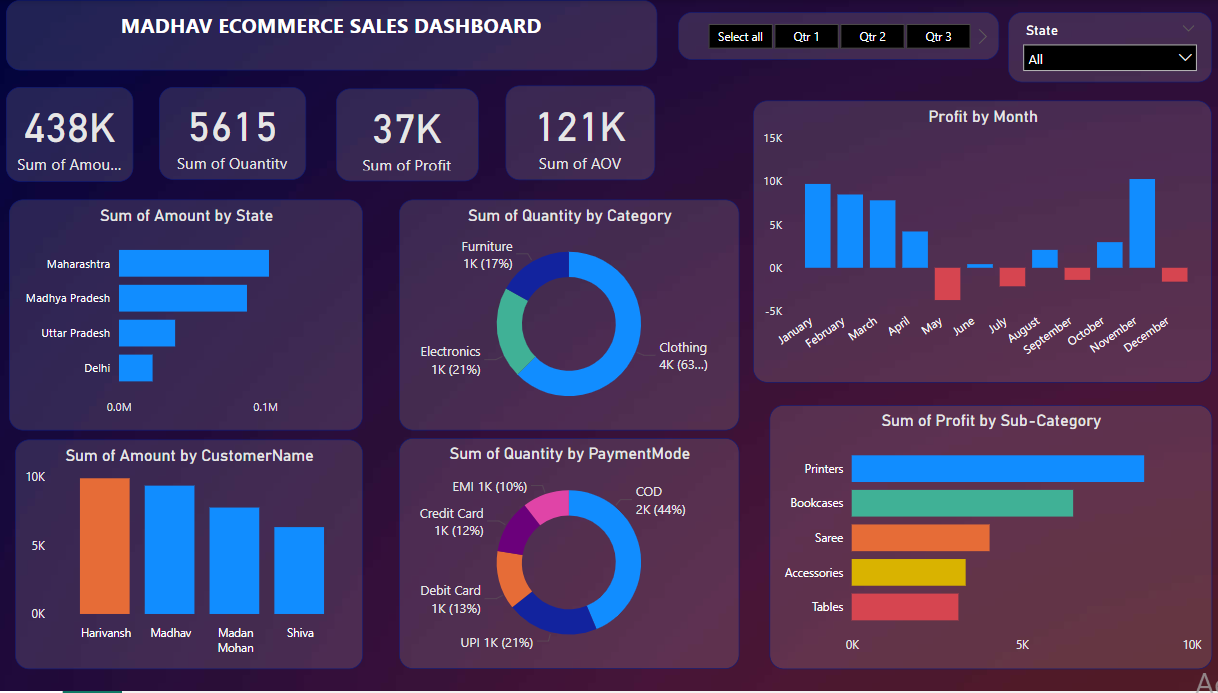

This screenshot's page, from the dashboard's own definition file:
{"tool":"powerbi","page":{"name":"Page 1","canvas":[1280,720],"ordinal":0},"visuals":[{"type":"textbox","box":[9.4,0,678.3,73.5],"z":0},{"type":"columnChart","title":"Profit by Month","fields":{"Y":["Details.Profit"],"Category":["Orders.Order Date.Variation.Date Hierarchy.Month"]},"box":[787.7,104.7,478.3,293.8],"z":1000},{"type":"barChart","fields":{"Category":["Details.Sub-Category"],"Y":["Details.Profit"]},"box":[804.9,422,461.1,275.1],"z":2000},{"type":"donutChart","fields":{"Y":["Details.Quantity"],"Category":["Details.PaymentMode"]},"box":[418.9,456.4,354.8,240.7],"z":3000},{"type":"donutChart","fields":{"Category":["Details.Category"],"Y":["Details.Quantity"]},"box":[418.9,207.9,354.8,240.7],"z":4000},{"type":"card","fields":{"Values":["Details.Amount"]},"box":[9.4,90.7,132.9,98.5],"z":5000},{"type":"card","fields":{"Values":["Details.Quantity"]},"box":[168.8,90.7,153.2,96.9],"z":6000},{"type":"card","fields":{"Values":["Details.Profit"]},"box":[353.2,92.2,148.5,96.9],"z":7000},{"type":"card","fields":{"Values":["Details.AOV"]},"box":[529.9,89.1,156.3,98.5],"z":8000},{"type":"barChart","fields":{"Category":["Orders.State"],"Y":["Details.Amount"]},"box":[12.5,207.9,368.9,240.7],"z":9000},{"type":"columnChart","fields":{"Category":["Orders.CustomerName"],"Y":["Details.Amount"]},"box":[18.8,458,362.6,239.1],"z":10000},{"type":"slicer","fields":{"Values":["Orders.Order Date.Variation.Date Hierarchy.Quarter"]},"box":[709.6,12.5,334.5,50],"z":11000},{"type":"slicer","fields":{"Values":["Orders.State"]},"box":[1053.5,12.5,212.6,73.5],"z":12000}]}

Visuals, with their boxes in screenshot pixels (x1, y1, x2, y2), scaled from the page's 1280x720 canvas onto the 1218x693 screenshot:
textbox: {"x1": 9, "y1": 0, "x2": 654, "y2": 71}
"Profit by Month" columnChart: {"x1": 750, "y1": 101, "x2": 1205, "y2": 384}
barChart - Details.Sub-Category x Details.Profit: {"x1": 766, "y1": 406, "x2": 1205, "y2": 671}
donutChart - Details.Quantity x Details.PaymentMode: {"x1": 399, "y1": 439, "x2": 736, "y2": 671}
donutChart - Details.Category x Details.Quantity: {"x1": 399, "y1": 200, "x2": 736, "y2": 432}
card - Details.Amount: {"x1": 9, "y1": 87, "x2": 135, "y2": 182}
card - Details.Quantity: {"x1": 161, "y1": 87, "x2": 306, "y2": 181}
card - Details.Profit: {"x1": 336, "y1": 89, "x2": 477, "y2": 182}
card - Details.AOV: {"x1": 504, "y1": 86, "x2": 653, "y2": 181}
barChart - Orders.State x Details.Amount: {"x1": 12, "y1": 200, "x2": 363, "y2": 432}
columnChart - Orders.CustomerName x Details.Amount: {"x1": 18, "y1": 441, "x2": 363, "y2": 671}
slicer - Orders.Order Date.Variation.Date Hierarchy.Quarter: {"x1": 675, "y1": 12, "x2": 994, "y2": 60}
slicer - Orders.State: {"x1": 1002, "y1": 12, "x2": 1205, "y2": 83}
